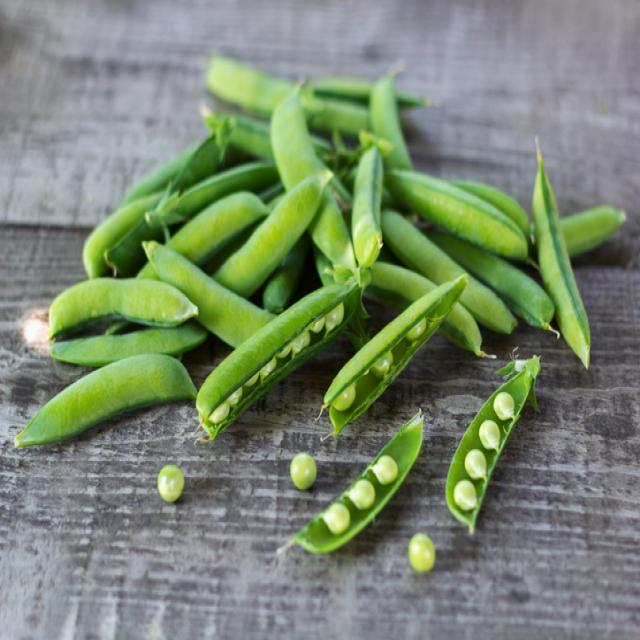pea: (453, 383, 522, 514), (322, 450, 398, 540)
